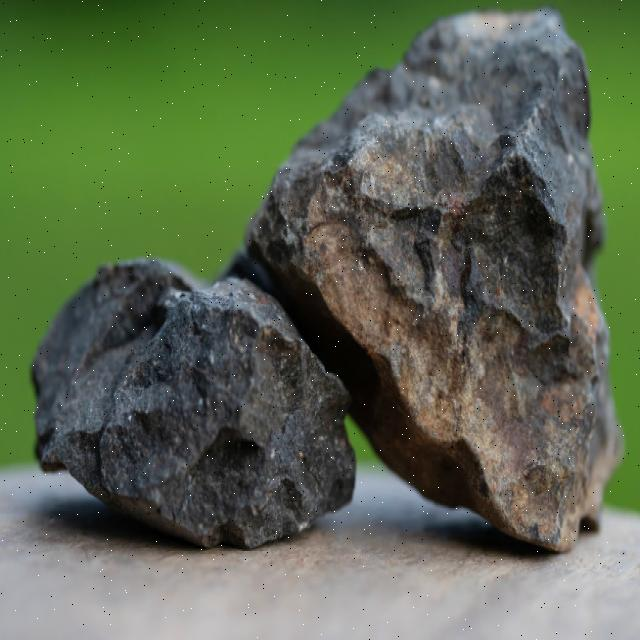Igneous: (22, 15, 635, 577)
